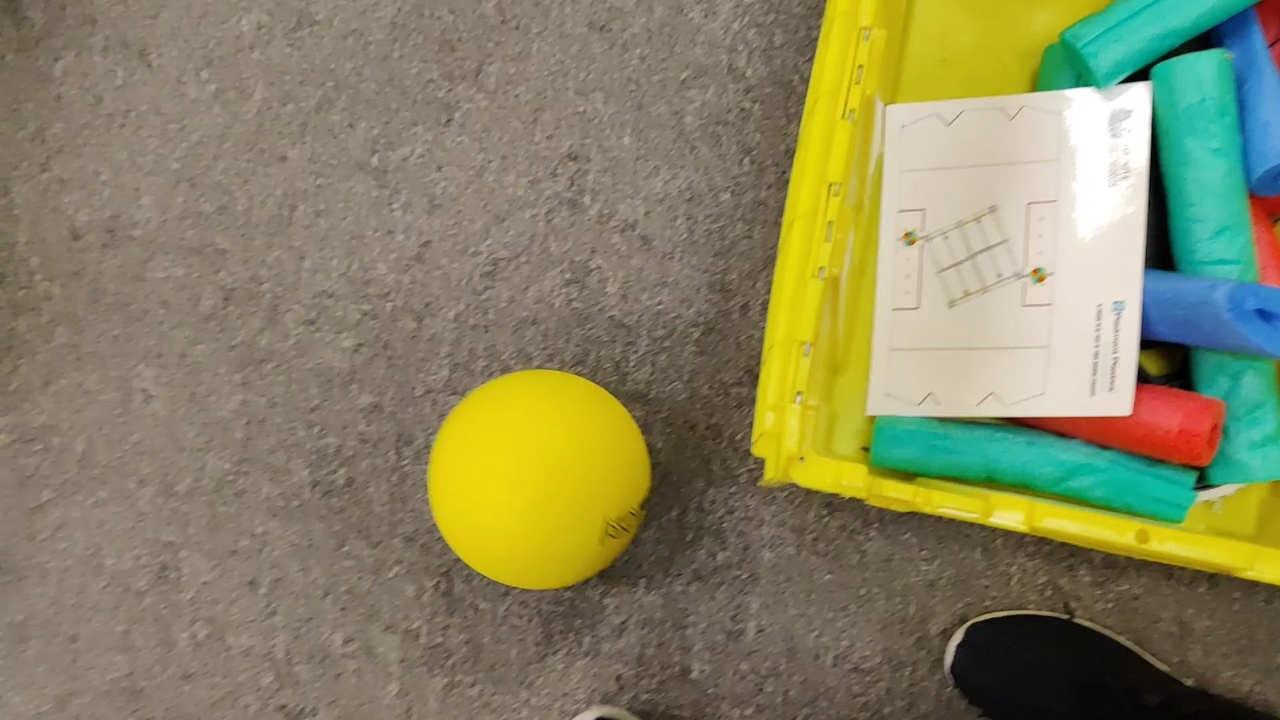Ball: (429, 368, 653, 588)
